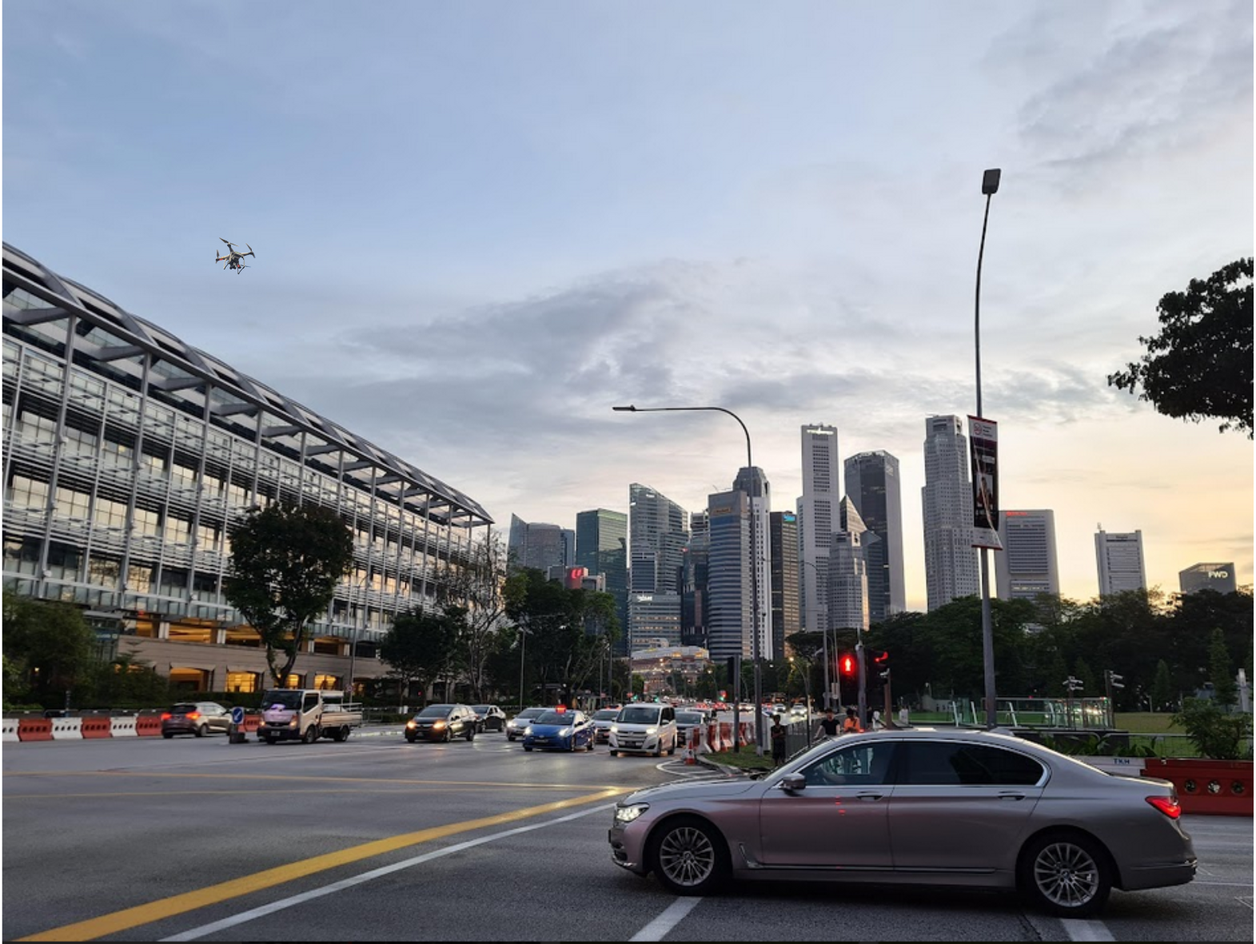drone_other: (213, 234, 257, 277)
